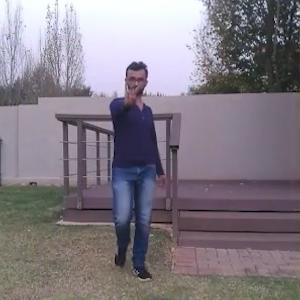takeoff-hand: (118, 74, 149, 110)
